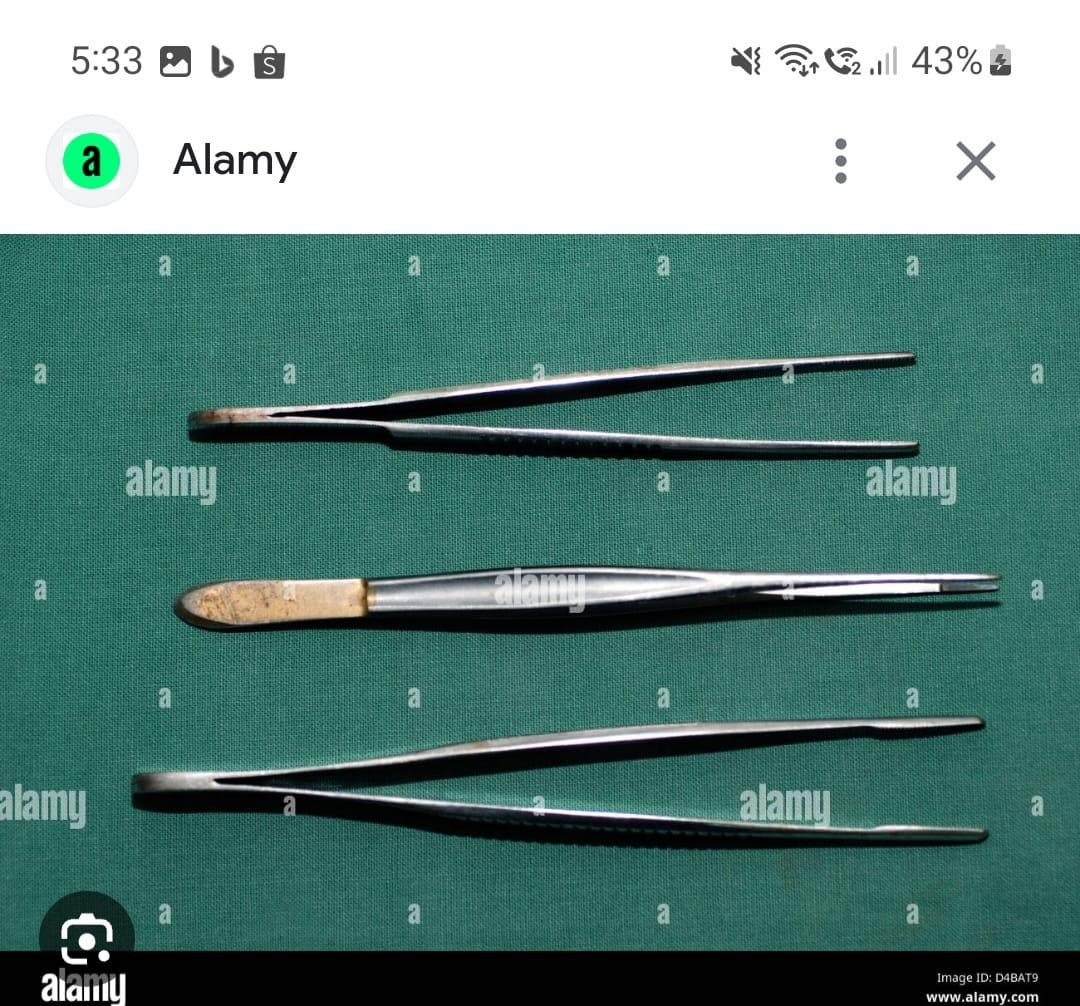Disscting Forceps: (107, 704, 1011, 877), (154, 321, 930, 490), (160, 537, 1026, 660)
